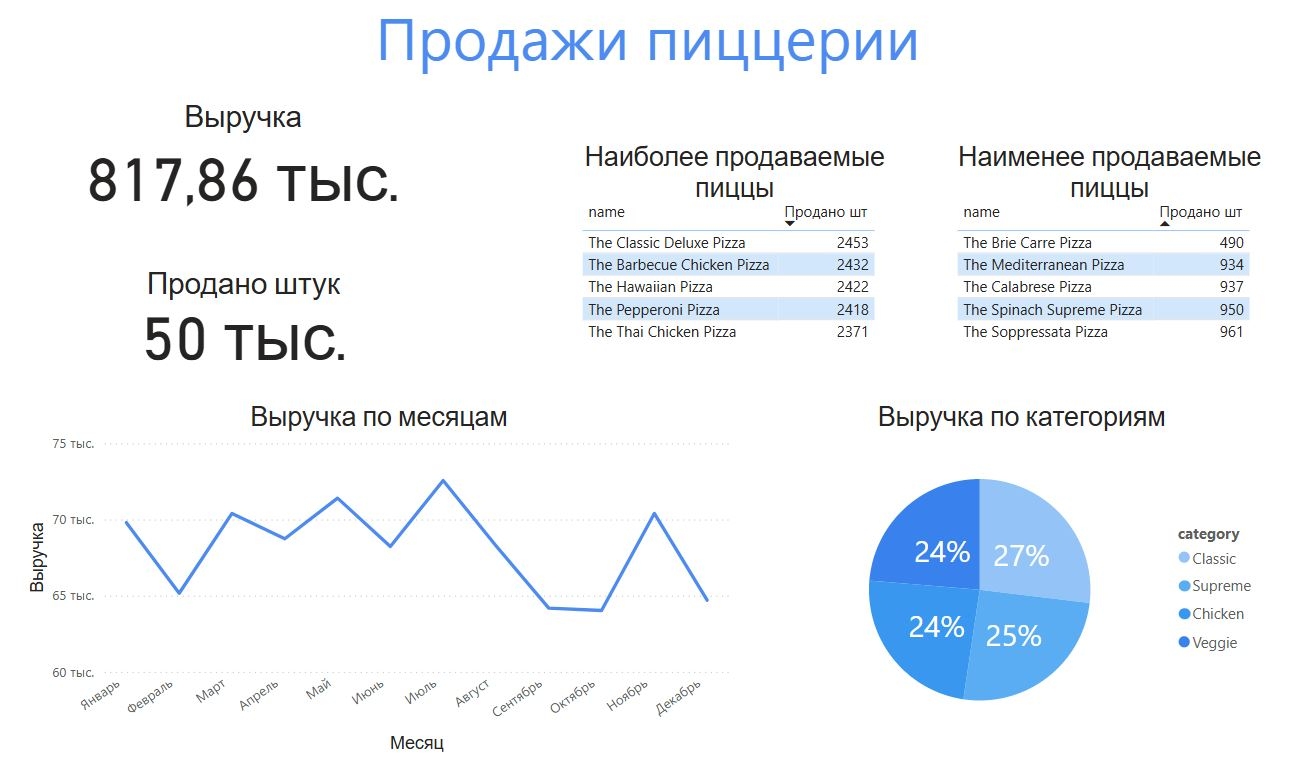

The page's visual inventory and layout, read from the dashboard file:
{"tool":"powerbi","page":{"name":"Страница 1","canvas":[1280,720],"ordinal":0},"visuals":[{"type":"card","title":"Выручка","fields":{"Values":["order_details.Выручка"]},"box":[115.1,121.6,307.4,102.1],"z":0},{"type":"card","title":"Продано штук","fields":{"Values":["order_details.Продано шт"]},"box":[115.1,271.4,307.4,88.5],"z":1000},{"type":"lineChart","title":"Выручка по месяцам","fields":{"Category":["orders.date.Изменение.Иерархия дат.Месяц"],"Y":["order_details.Выручка"]},"box":[70.9,391.4,639.2,320.5],"z":2000},{"type":"tableEx","title":"Наиболее продаваемые пиццы","fields":{"Values":["pizza_types.name","order_details.Продано шт"]},"box":[567.4,157.6,285,195.5],"z":3000},{"type":"pieChart","title":"Выручка по категориям","fields":{"Y":["order_details.Выручка"],"Category":["pizza_types.category"]},"box":[752.3,391.3,430.4,310.2],"z":4000},{"type":"tableEx","title":"Наименее продаваемые пиццы","fields":{"Values":["pizza_types.name","order_details.Продано шт"]},"box":[903.9,157.6,285,195.5],"z":5000},{"type":"textbox","box":[382.4,22.4,514.4,98.8],"z":6000}]}

Visuals, with their boxes on the page's 1280x720 design canvas (x1, y1, x2, y2). These are canvas units, not pixel positions in the 1305x759 screenshot, which may show the page scaled, cropped or inside an application window:
"Выручка" card: crop(115, 122, 422, 224)
"Продано штук" card: crop(115, 271, 422, 360)
"Выручка по месяцам" lineChart: crop(71, 391, 710, 712)
"Наиболее продаваемые пиццы" tableEx: crop(567, 158, 852, 353)
"Выручка по категориям" pieChart: crop(752, 391, 1183, 702)
"Наименее продаваемые пиццы" tableEx: crop(904, 158, 1189, 353)
textbox: crop(382, 22, 897, 121)
